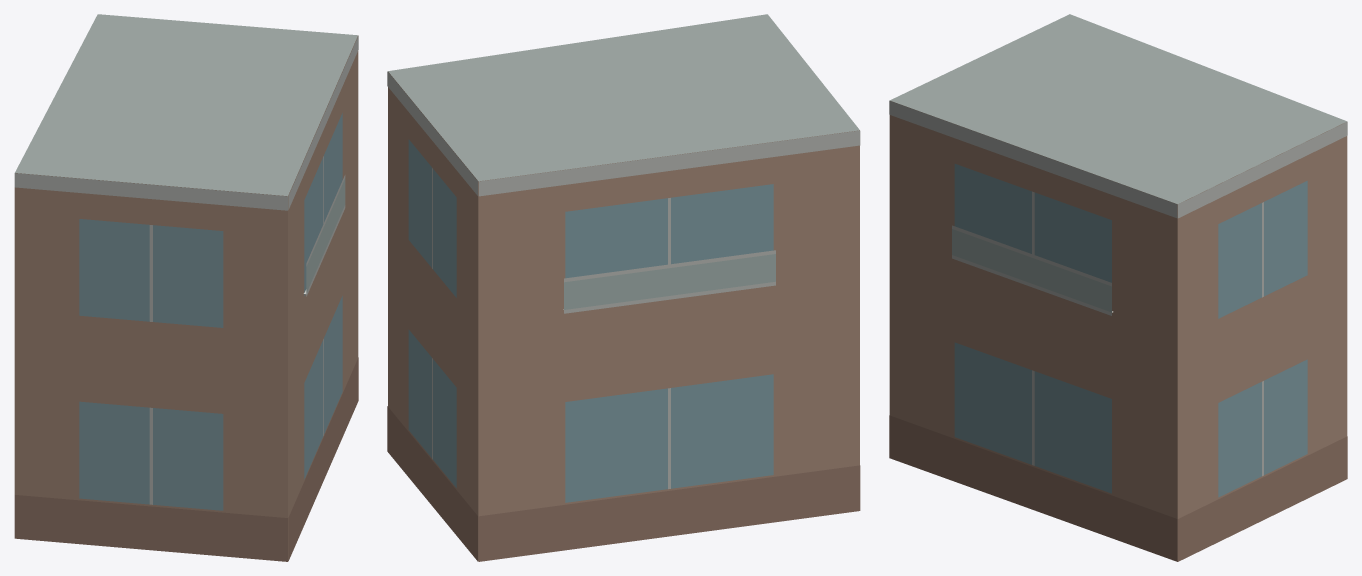
File: survey-upis-32818187.glb
3 views of the same model, side by side, from view 1: azimuth 30°, elevation 25°; view 2: azimuth 150°, elevation 25°; view 3: azimuth 270°, elevation 25° (orthographic). The views are drawn at different scales.
Parts seen in each view (by area): view 1: survey-upis-32818187.tmp; view 2: survey-upis-32818187.tmp; view 3: survey-upis-32818187.tmp.
Boxes of the visible parts, bbox=[...] form: survey-upis-32818187.tmp: bbox=[14, 14, 358, 561]; survey-upis-32818187.tmp: bbox=[387, 14, 860, 561]; survey-upis-32818187.tmp: bbox=[889, 14, 1347, 561].
Size of the model in its own units: 6.97 by 6.1 by 7.09.
